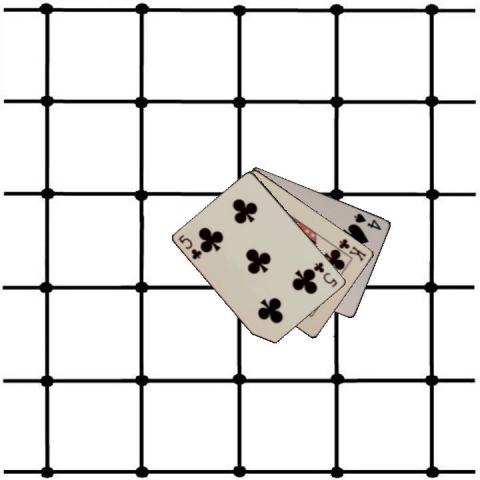4s: (352, 210, 384, 231)
5c: (311, 258, 339, 288), (176, 231, 203, 261)
Kc: (336, 235, 368, 263)
